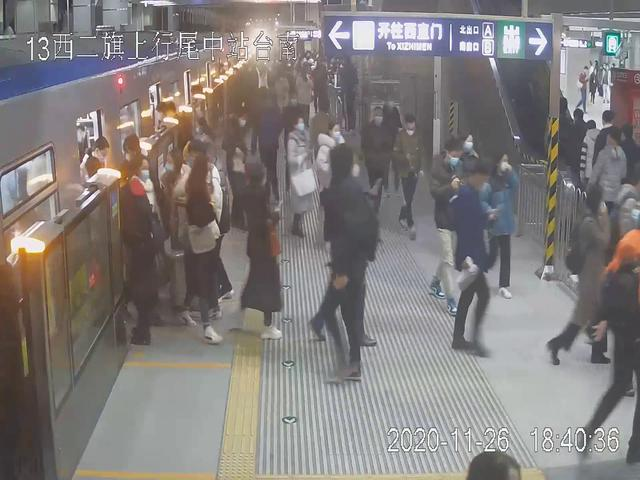person: (318, 144, 377, 385), (233, 162, 289, 340), (180, 155, 227, 346), (449, 158, 491, 360), (489, 153, 519, 294), (285, 114, 318, 237), (393, 111, 423, 237)
